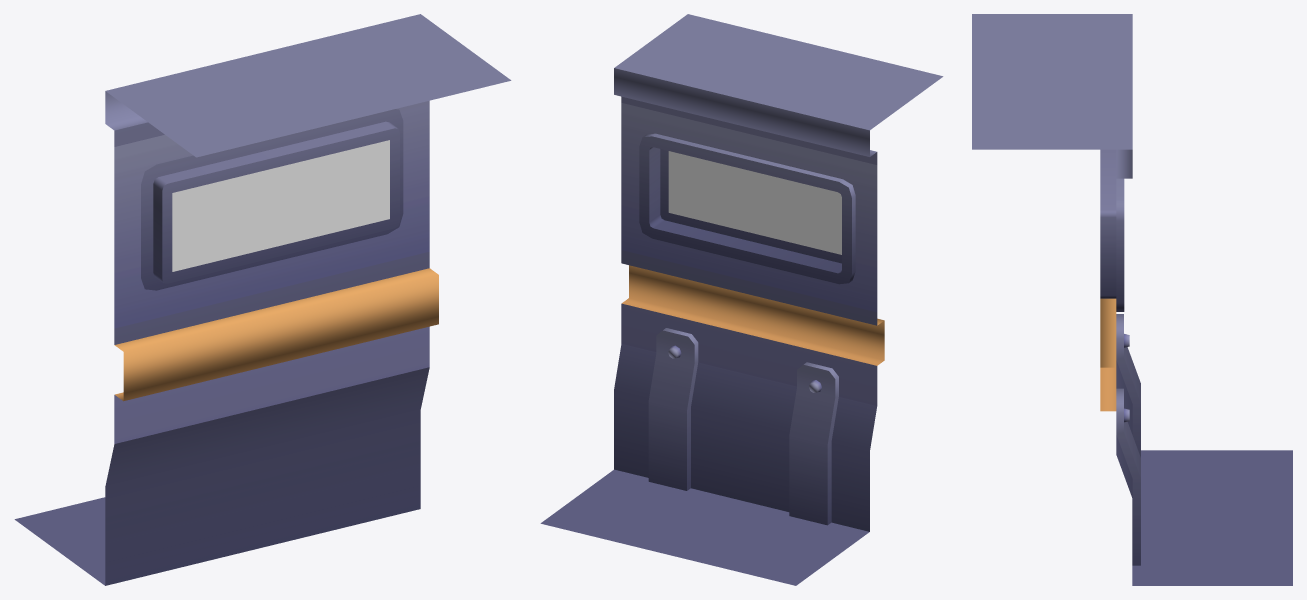
Rendered from kenney-factory-structure-window-wide.glb.
3 renders of one model, left to right at view 1: azimuth 30°, elevation 25°; view 2: azimuth 150°, elevation 25°; view 3: azimuth 270°, elevation 25°, orthographic. The views are drawn at different scales.
Parts seen in each view (by area): view 1: structure-window-wide; view 2: structure-window-wide; view 3: structure-window-wide.
Part boxes in pixels (<box>): structure-window-wide: <box>14,14,511,585</box>; structure-window-wide: <box>540,14,943,585</box>; structure-window-wide: <box>972,14,1292,585</box>.
Size of the model in its own units: 2 by 3 by 2.
1 material, 1 textured.
